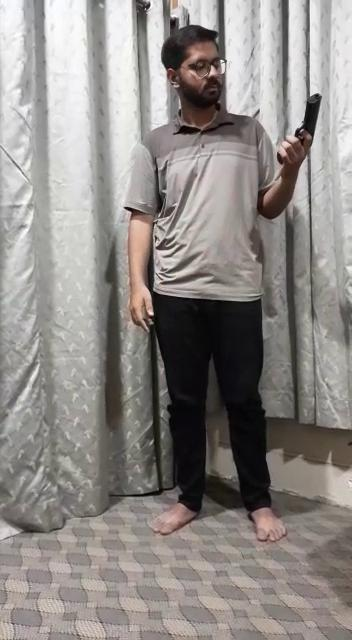criminal: (120, 23, 325, 548)
weapon: (272, 90, 325, 169)
